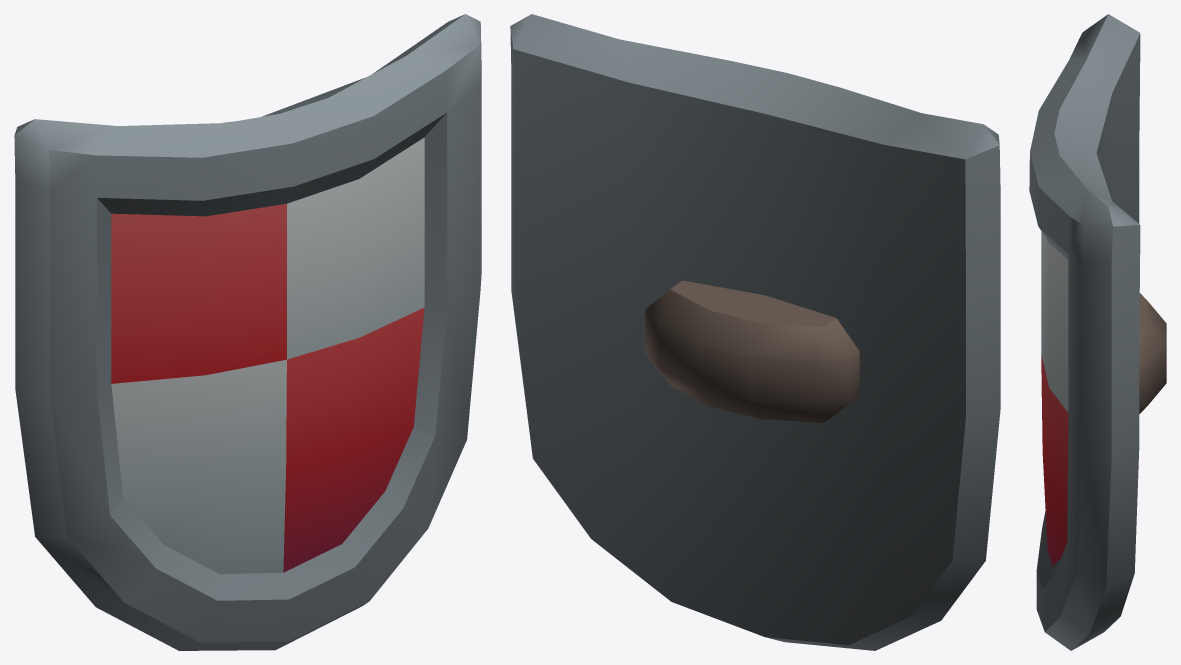
Rendered from gear-shield-badge-color.glb.
3 renders of one model, left to right at view 1: azimuth 30°, elevation 25°; view 2: azimuth 150°, elevation 25°; view 3: azimuth 270°, elevation 25°, orthographic. The views are drawn at different scales.
Parts seen in each view (by area): view 1: shield_badge_color; view 2: shield_badge_color; view 3: shield_badge_color.
Part boxes in pixels (x1=…): shield_badge_color: x1=14, y1=14, x2=481, y2=650; shield_badge_color: x1=510, y1=14, x2=1000, y2=650; shield_badge_color: x1=1029, y1=14, x2=1166, y2=650.
Size of the model in its own units: 0.8826 by 1.02 by 0.2459.
